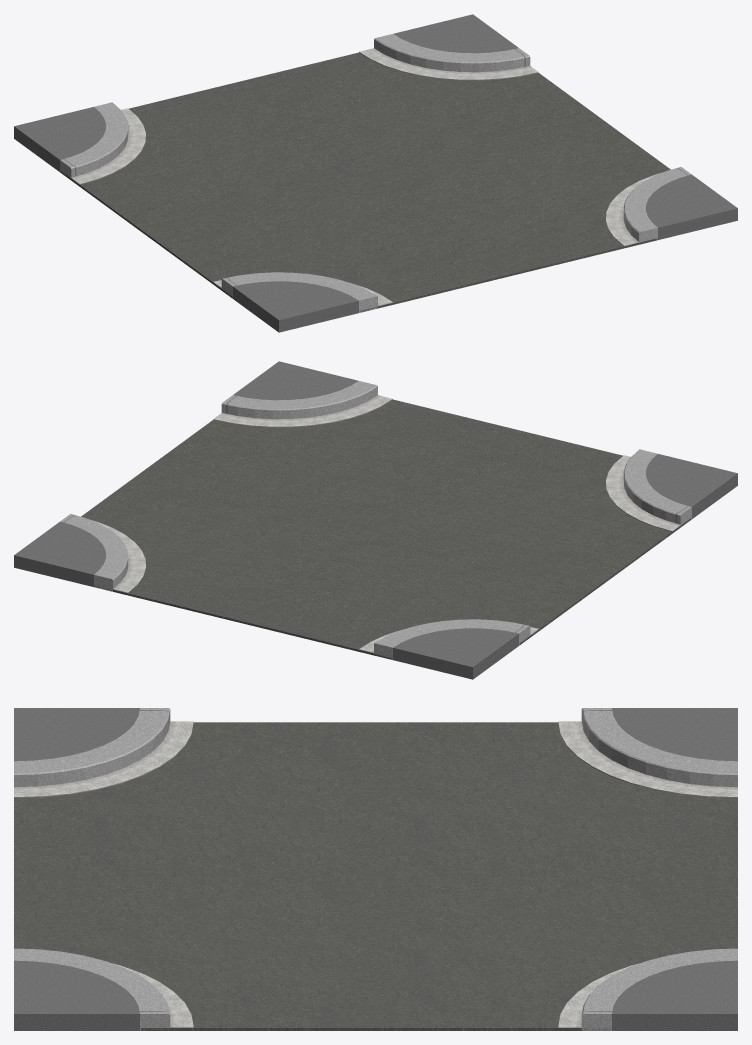
File: croisement1et1.obj
3 renders of one model, top to bottom at view 1: azimuth 30°, elevation 25°; view 2: azimuth 150°, elevation 25°; view 3: azimuth 270°, elevation 25°, orthographic. The views are drawn at different scales.
Parts seen in each view (by area): view 1: croisement1et1_Plane.026; view 2: croisement1et1_Plane.026; view 3: croisement1et1_Plane.026.
Boxes of the visible parts, left/top/right/bottom form: croisement1et1_Plane.026: left=14, top=14, right=737, bottom=332; croisement1et1_Plane.026: left=14, top=361, right=737, bottom=679; croisement1et1_Plane.026: left=14, top=708, right=737, bottom=1030.
Bounding box in the file's own units: 695 × 18 × 695.
